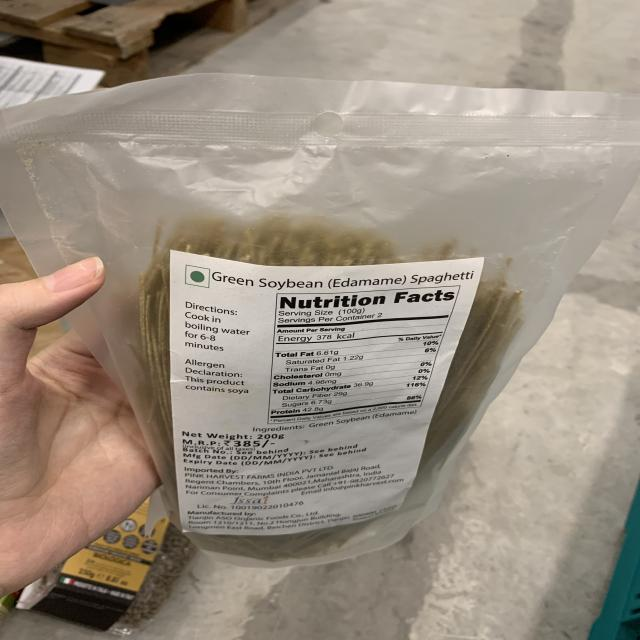object_name: (59, 107, 528, 556)
